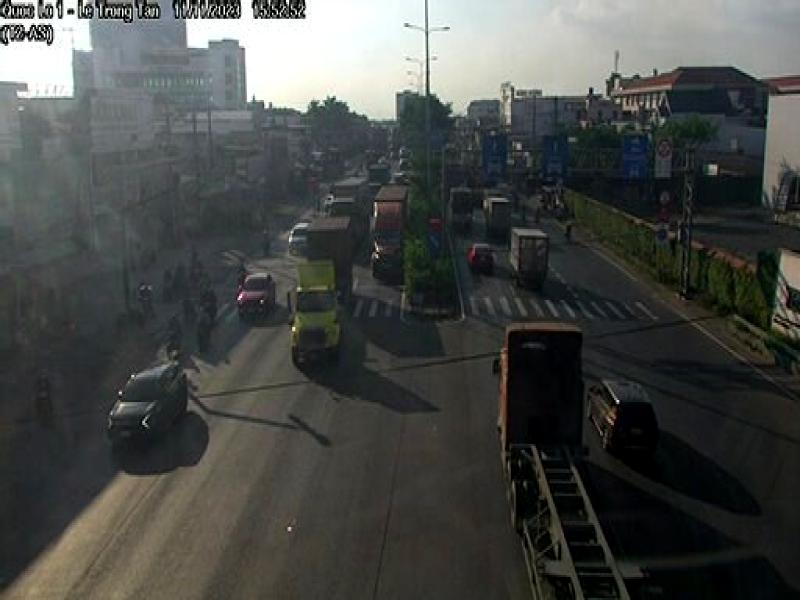truck: (496, 319, 662, 600), (291, 218, 353, 360), (509, 224, 551, 296)
